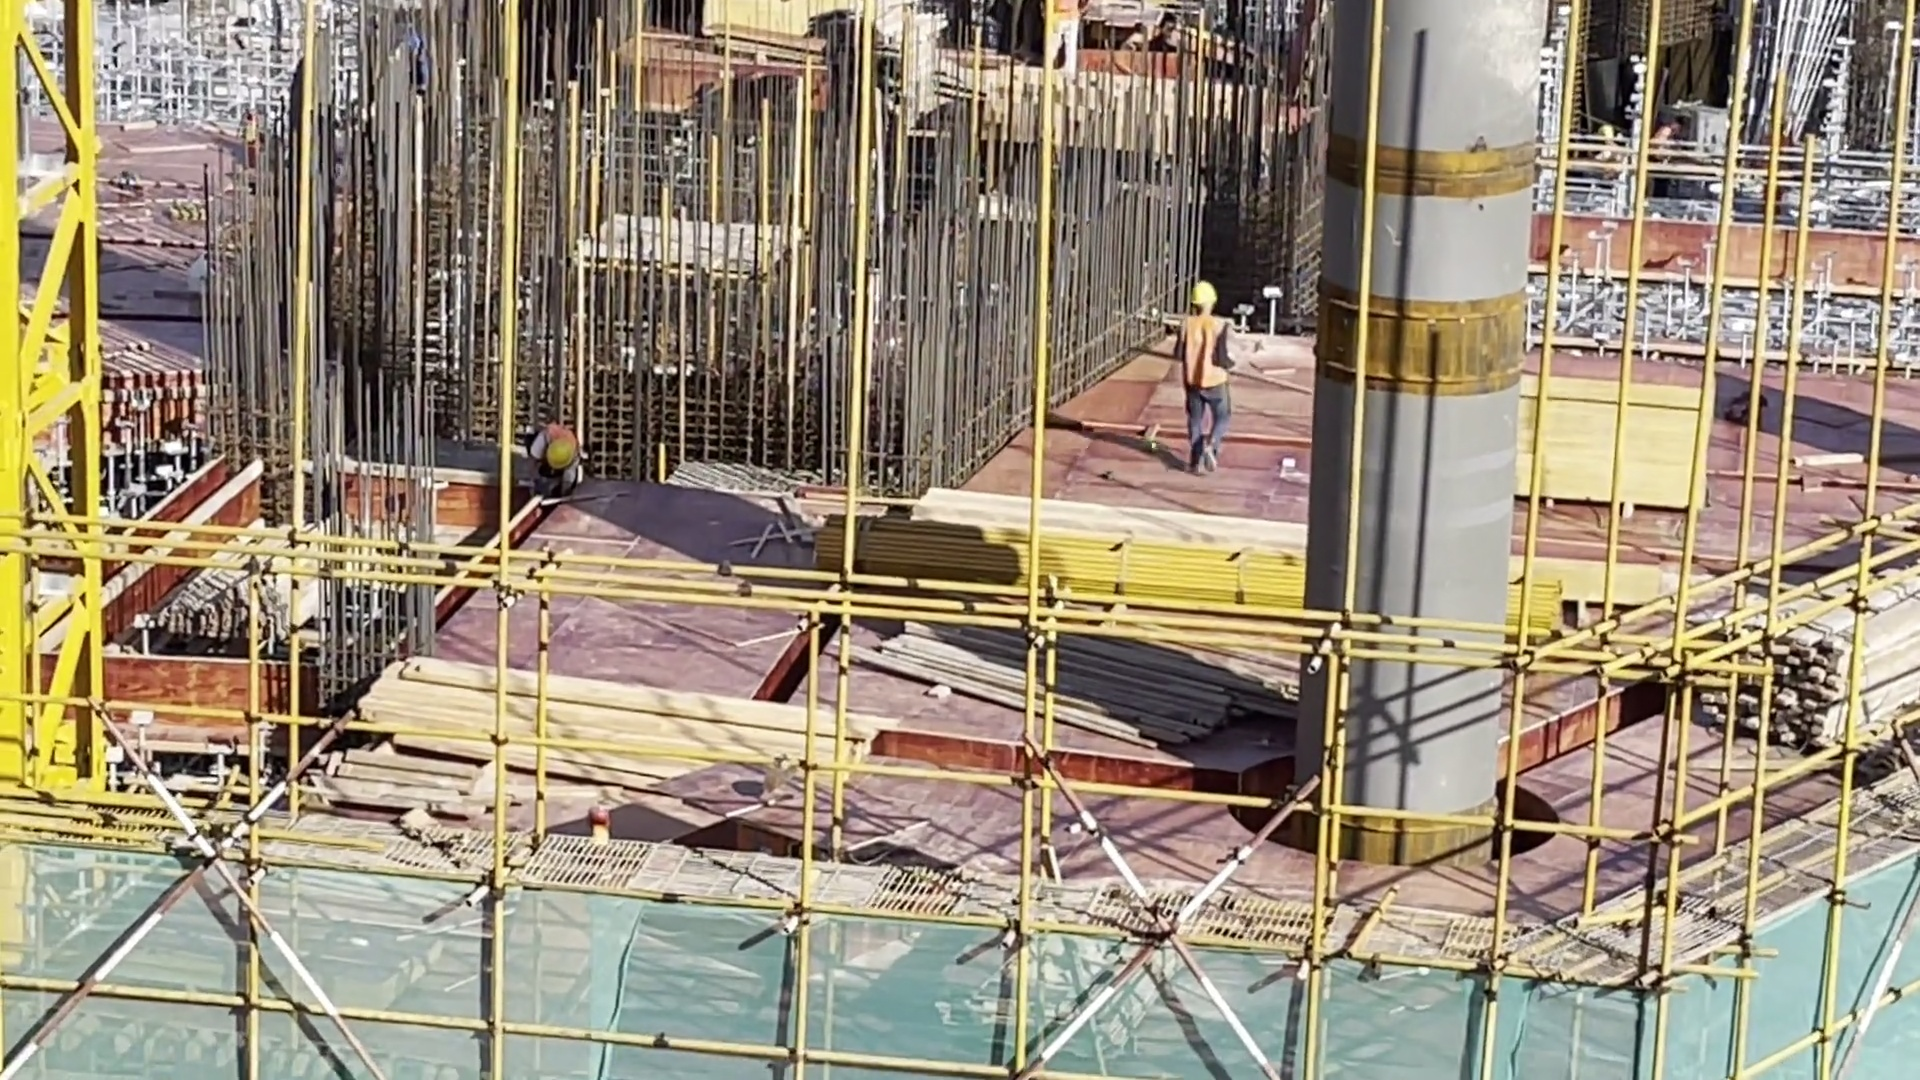helmet: (547, 429, 572, 472), (1193, 284, 1225, 311)
person: (1183, 280, 1233, 474), (519, 420, 593, 499)
vest: (1180, 315, 1234, 404)
